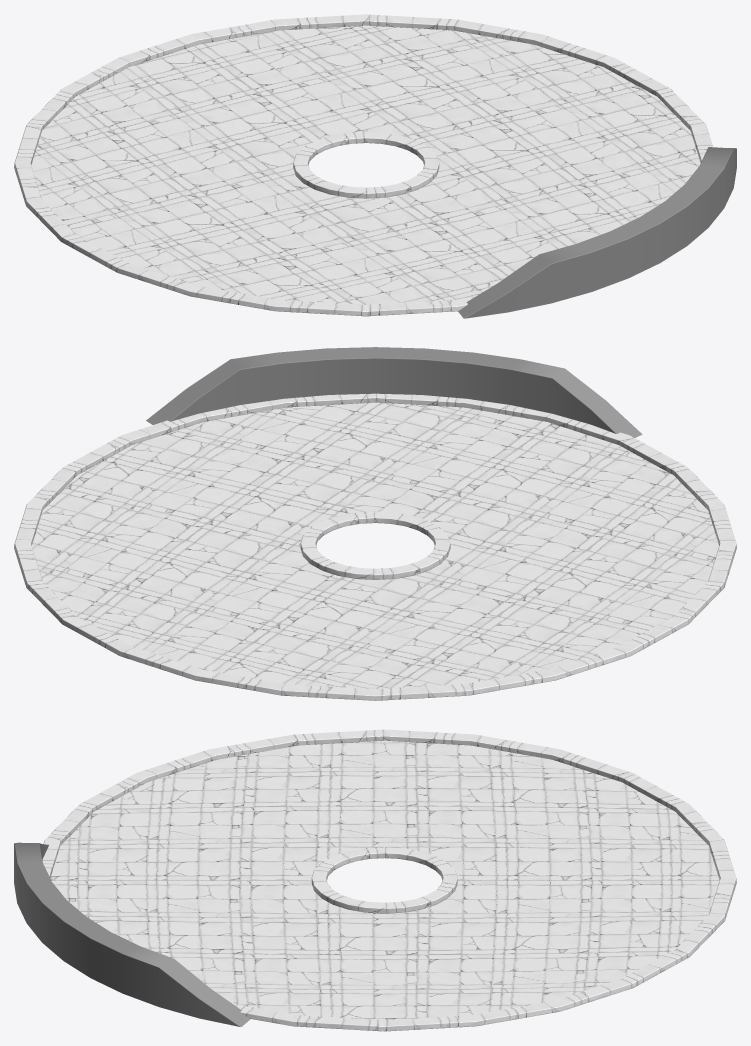
The model's file is plaza_ground.fbx.
The picture shows the model from 3 angles, top to bottom: view 1: azimuth 30°, elevation 25°; view 2: azimuth 150°, elevation 25°; view 3: azimuth 270°, elevation 25°; orthographic projection. The views are drawn at different scales.
Visible parts, largest first — view 1: plaza_ground; view 2: plaza_ground; view 3: plaza_ground.
Part boxes in pixels (x1,y1,x2,y2): plaza_ground: [14, 14, 736, 318]; plaza_ground: [14, 347, 736, 700]; plaza_ground: [14, 729, 736, 1031].
Size of the model in its own units: 1242 by 77.43 by 1274.
